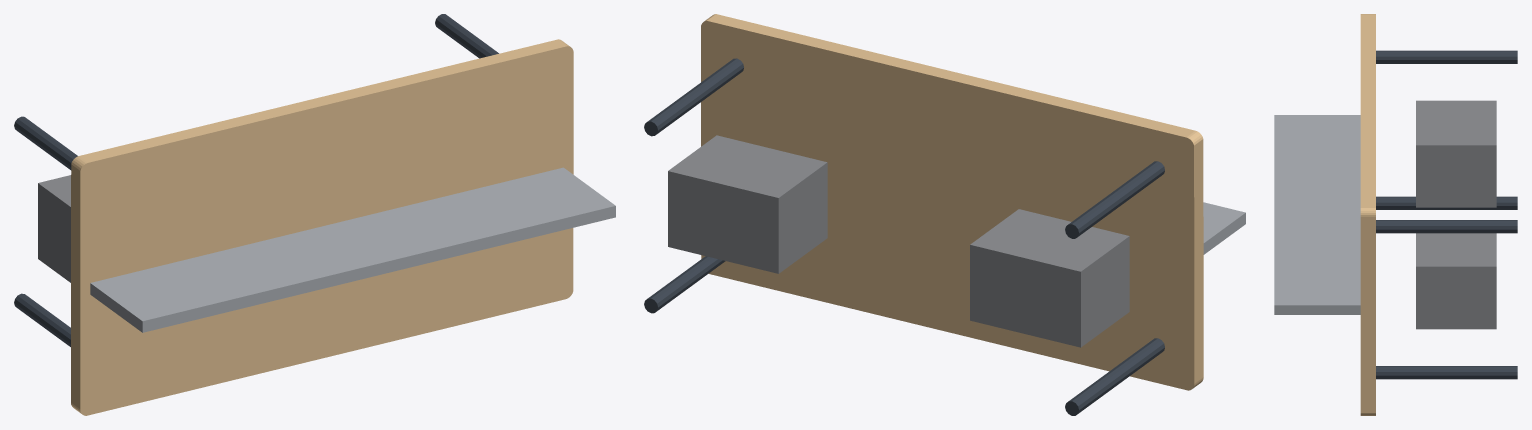
File: DESK_BENCH_2P_001.glb
3 views of the same model, side by side, from view 1: azimuth 30°, elevation 25°; view 2: azimuth 150°, elevation 25°; view 3: azimuth 270°, elevation 25° (orthographic). The views are drawn at different scales.
Visible parts, largest first — view 1: bench_top_000, middle_partition_001, under_cabinet_006, leg_003, leg_002, leg_005; view 2: bench_top_000, under_cabinet_007, under_cabinet_006, leg_005, leg_002, leg_003, middle_partition_001, leg_004; view 3: middle_partition_001, under_cabinet_006, under_cabinet_007, bench_top_000, leg_003, leg_004, leg_005, leg_002.
Part boxes in pixels (x1,y1,x2,y2): bench_top_000: (71, 39, 573, 415); middle_partition_001: (90, 167, 615, 332); under_cabinet_006: (38, 175, 70, 282); leg_003: (14, 116, 77, 170); leg_002: (14, 293, 70, 346); leg_005: (435, 14, 498, 58); bench_top_000: (701, 14, 1203, 390); under_cabinet_007: (668, 135, 827, 273); under_cabinet_006: (970, 209, 1129, 347); leg_005: (644, 58, 743, 136); leg_002: (1065, 338, 1164, 415); leg_003: (1065, 161, 1164, 238); middle_partition_001: (1203, 202, 1245, 254); leg_004: (644, 256, 725, 313); middle_partition_001: (1274, 115, 1360, 314); under_cabinet_006: (1416, 100, 1496, 207); under_cabinet_007: (1416, 233, 1496, 329); bench_top_000: (1360, 14, 1375, 415); leg_003: (1376, 50, 1517, 63); leg_004: (1376, 366, 1517, 379); leg_005: (1376, 220, 1517, 233); leg_002: (1376, 196, 1517, 209).
Bounding box in the file's own units: 2.45 × 1.2 × 1.27.
